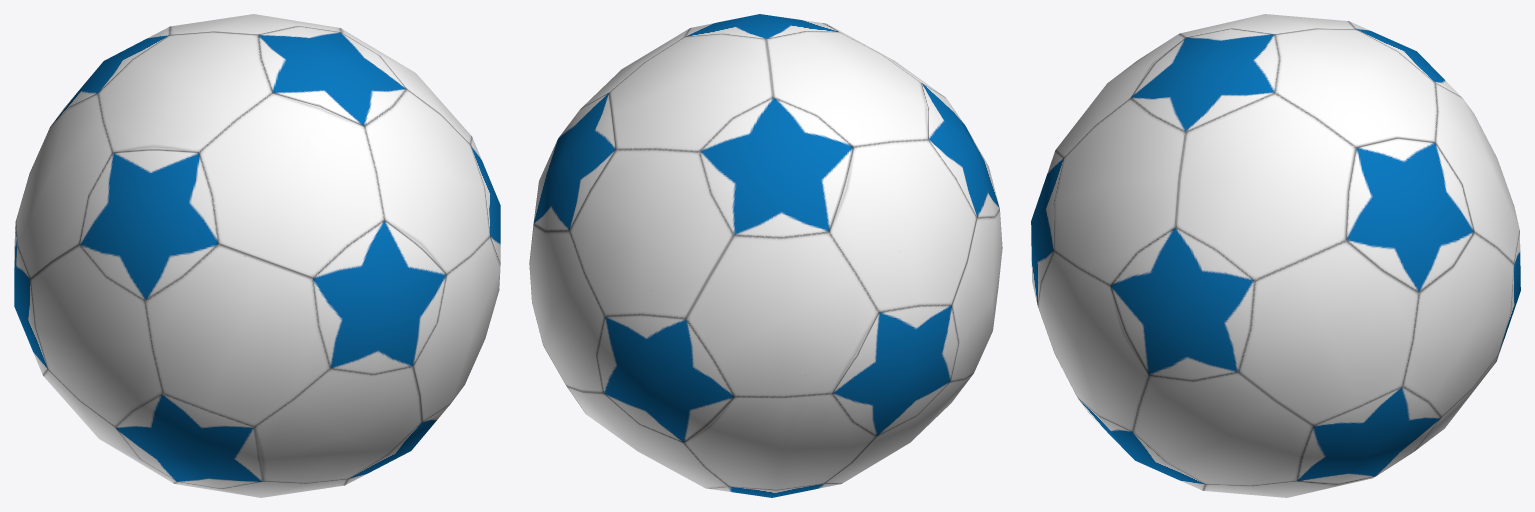
Rendered from FootBall_FBX.fbx.
3 views of the same model, side by side, from view 1: azimuth 30°, elevation 25°; view 2: azimuth 150°, elevation 25°; view 3: azimuth 270°, elevation 25° (orthographic). The views are drawn at different scales.
Visible parts, largest first — view 1: Football1; view 2: Football1; view 3: Football1.
Part boxes in pixels (x1,y1,x2,y2): Football1: (14,14,500,497); Football1: (529,14,1002,497); Football1: (1031,14,1520,497).
Size of the model in its own units: 7.71 by 7.78 by 7.79.
